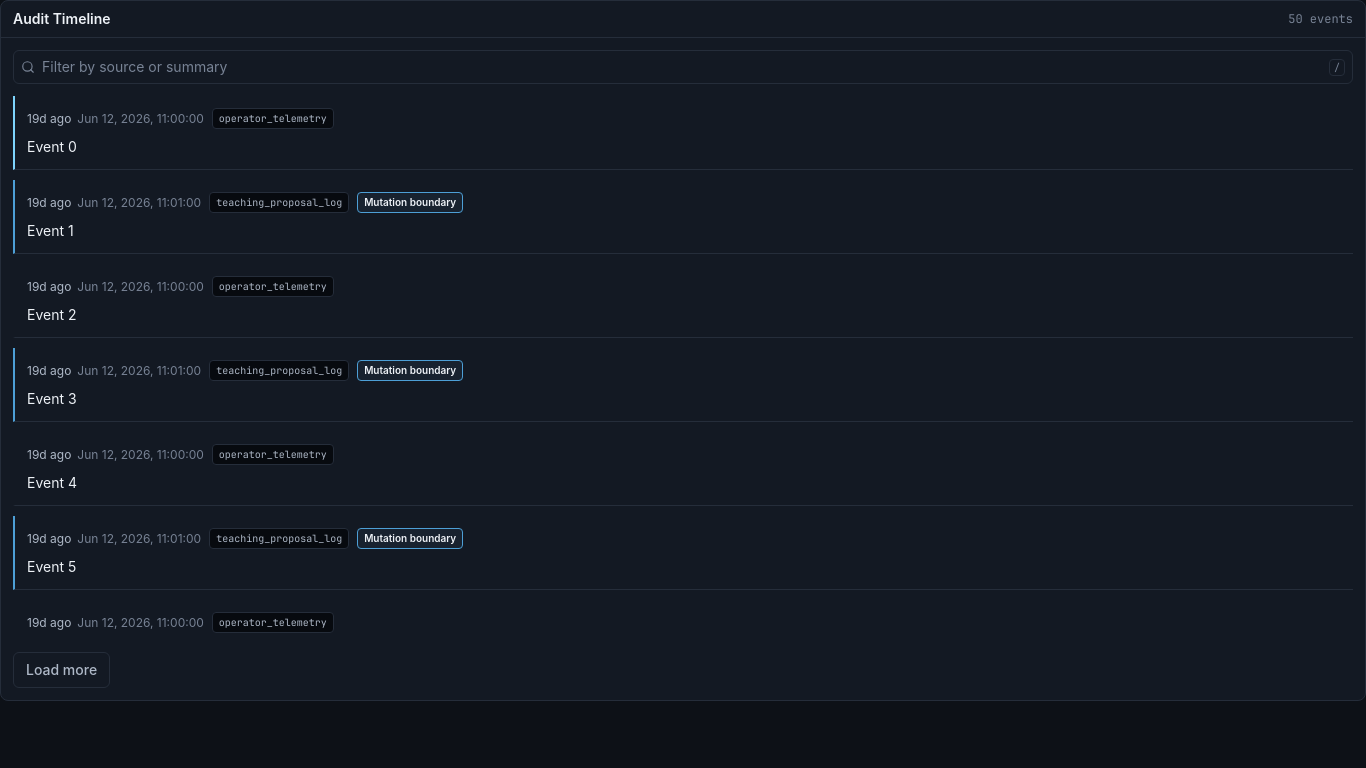
Test: AuditRoute › loads another API page without re-sorting existing events
What coordinates should you click on to do the following:
click the button "Load more"
I would click on:
 (62, 670)
Its box is left=13, top=652, right=110, bottom=688.
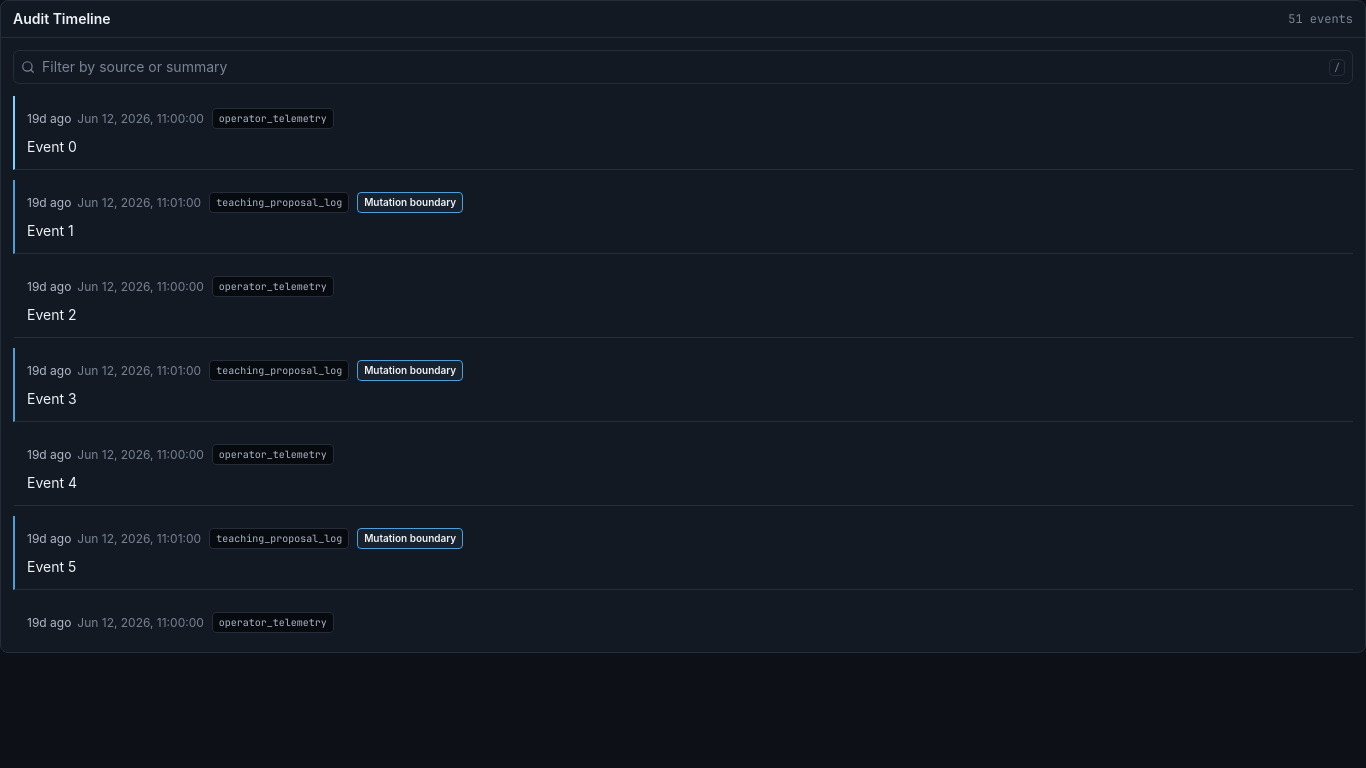
Expected: the option that starts with "19d ago" shows "Event 0", left=13, top=96, right=1353, bottom=170
Expected: the text "51 events" is shown, left=1288, top=11, right=1353, bottom=27
